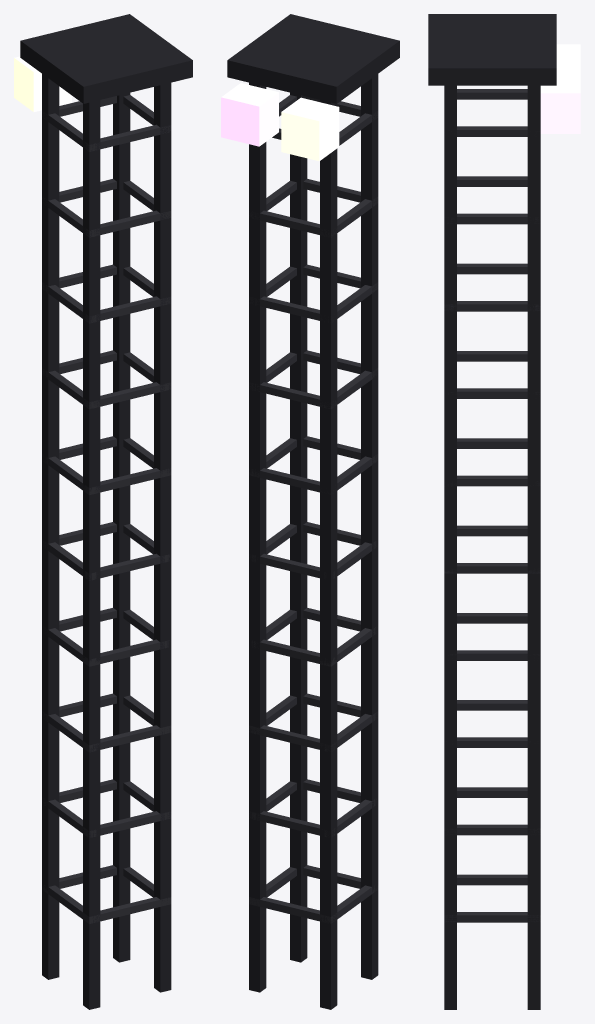
Rendered from tt-truss.glb.
The picture shows the model from 3 angles, left to right: view 1: azimuth 30°, elevation 25°; view 2: azimuth 150°, elevation 25°; view 3: azimuth 270°, elevation 25°; orthographic projection.
Visible parts, largest first — view 1: box-prop; view 2: box-prop; view 3: box-prop.
Boxes of the visible parts, x1,y1,x2,y2 form: box-prop: (14, 14, 192, 1009); box-prop: (221, 14, 399, 1009); box-prop: (428, 14, 580, 1009).
Bounding box in the file's own units: 0.8 × 6.52 × 0.95.
